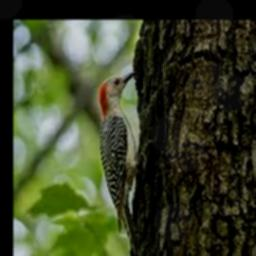Woodpecker: (100, 71, 156, 249)
